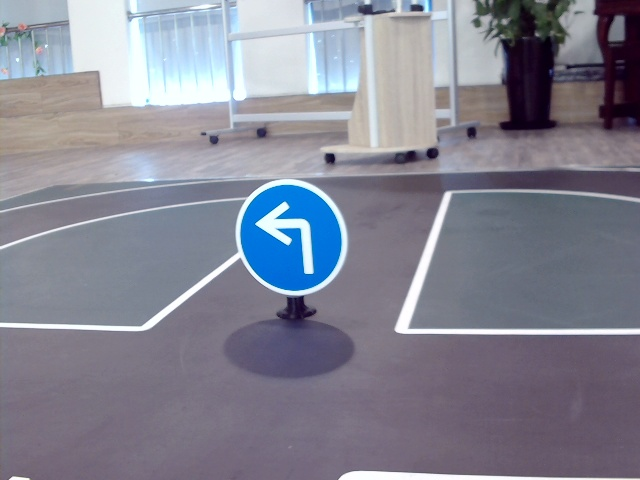turn_left: (254, 200, 321, 273)
